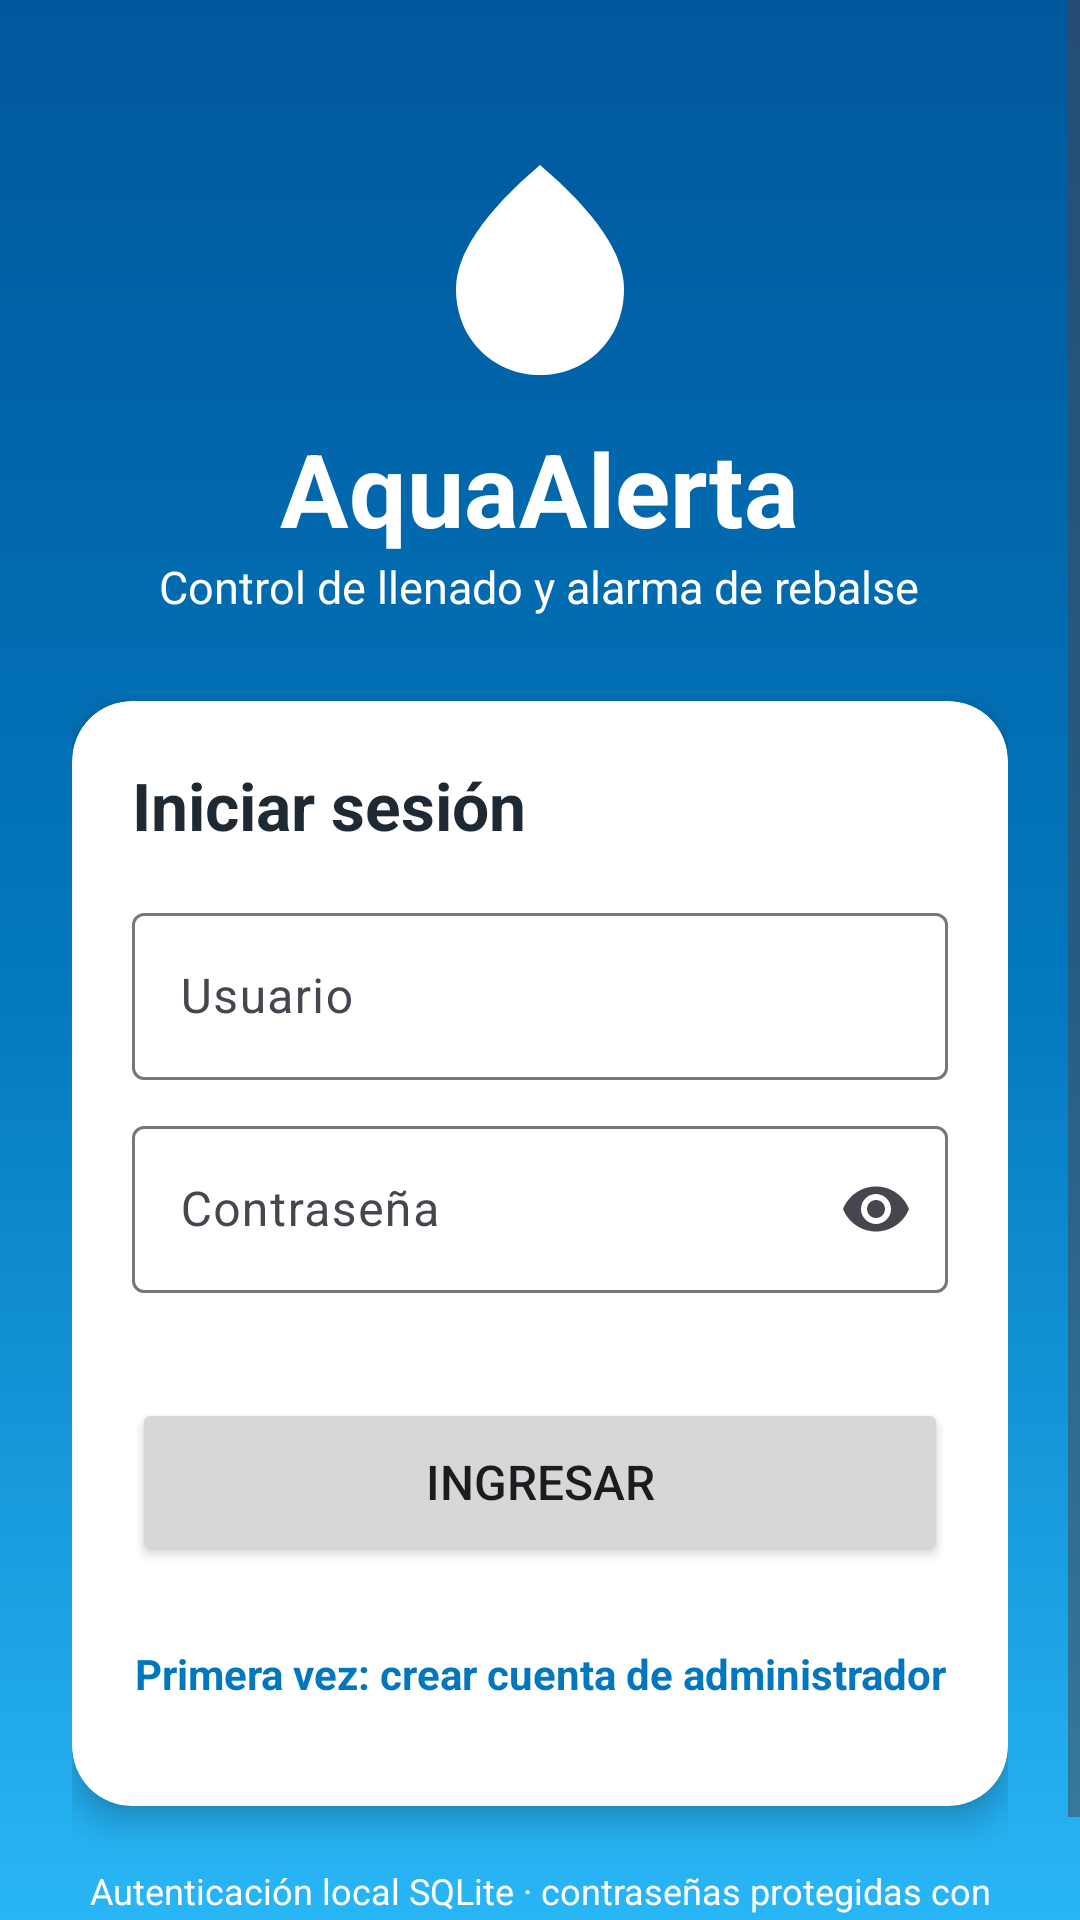

Icons on this 1080 × 1920 Android screen, each with its box as bbox=(x1, y1, x2, y2):
gota: bbox=(456, 165, 624, 375)
